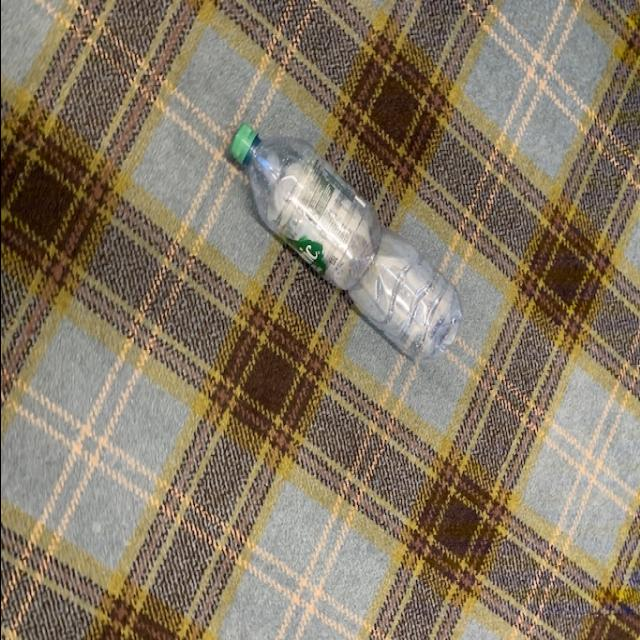litter: (224, 125, 462, 366)
